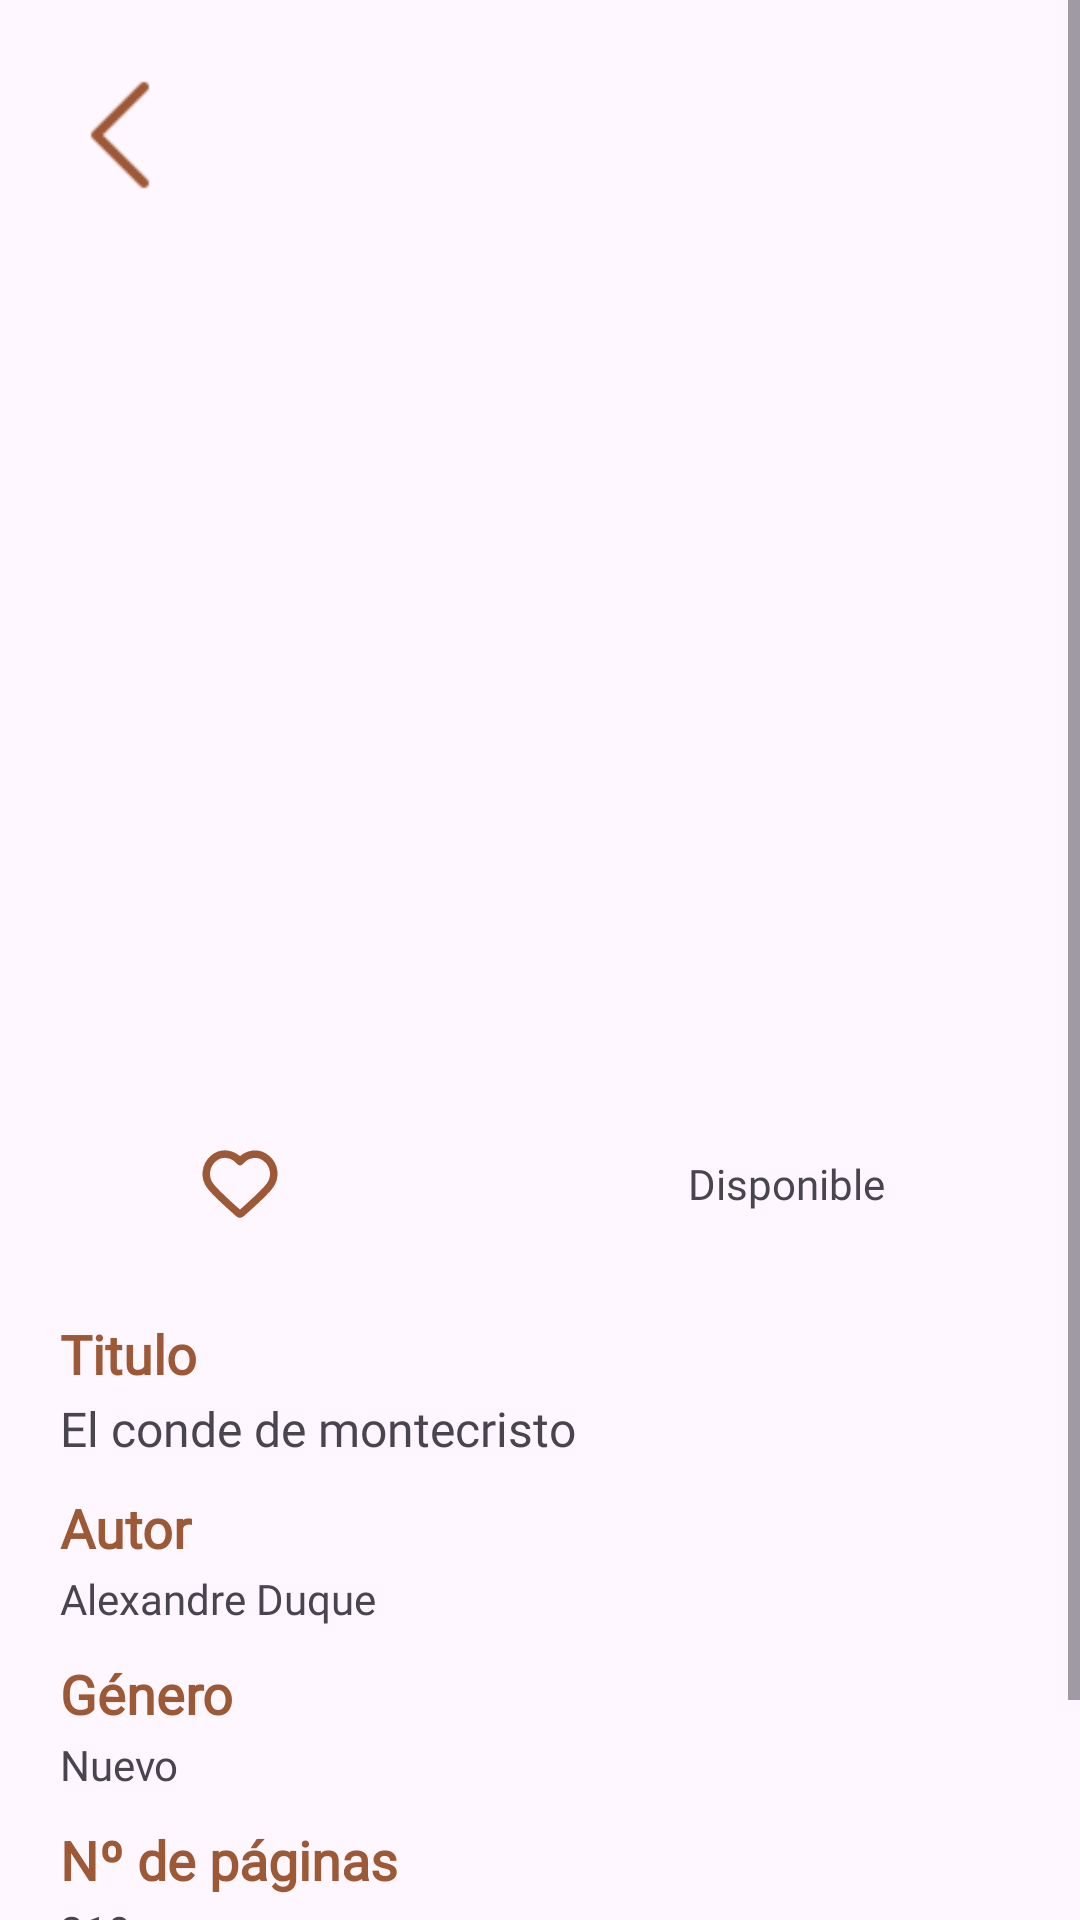

Named icons in this screenshot (1080px×1920px) and their centers, [x,y]:
backk: [120,135]
vacio: [240,1184]
